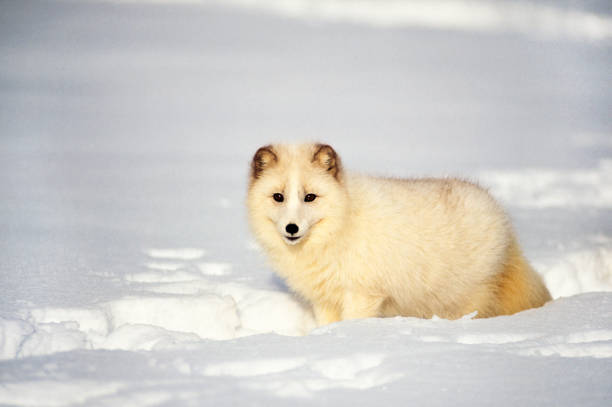arcticfox: (254, 152, 337, 263)
